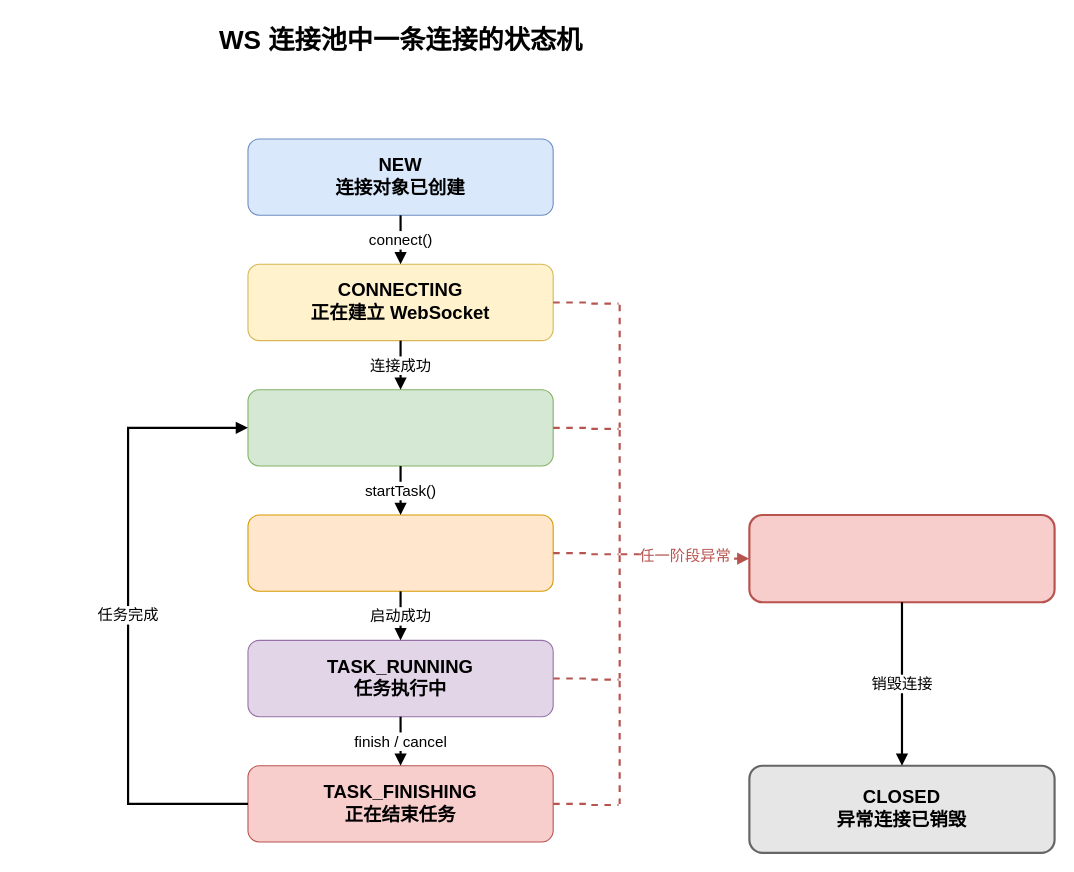
Some shapes in this 1074 by 872 pixel diagram are drawn without their labels. The shapes that lost their labels are listed below. From the top down, each one's box as (x1, y1, x2, y2) in pixels, then its label:
(247, 389, 553, 466): IDLE 空闲，可借出复用
(247, 514, 553, 591): TASK_STARTING 正在启动任务
(748, 513, 1055, 603): BROKEN 连接异常，不可复用
